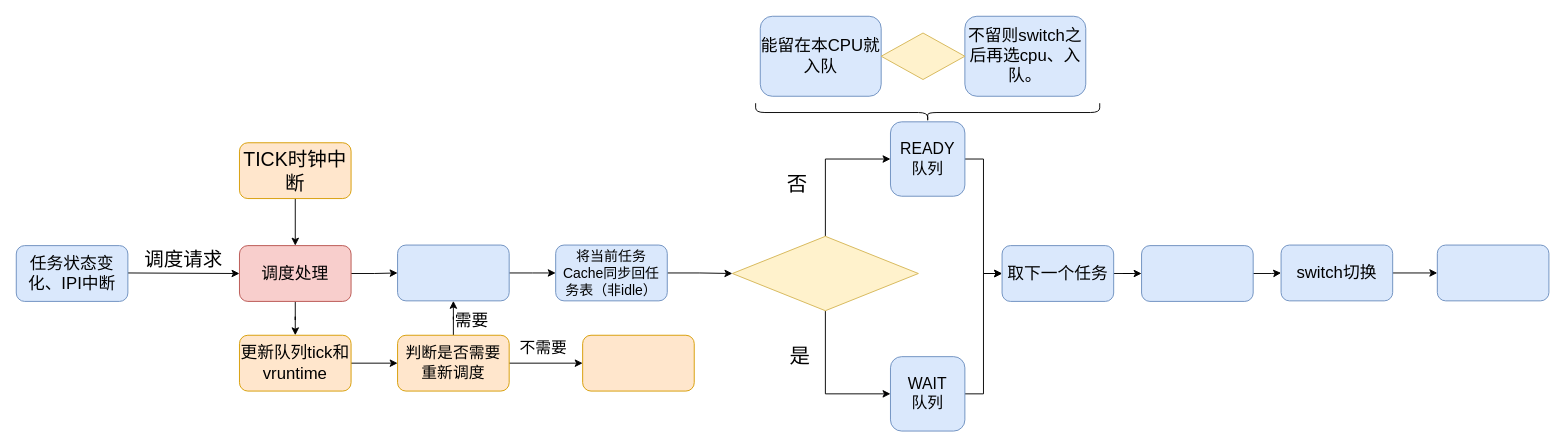
The diagram is 1565 pixels wide and 447 high, and some of its shapes have lost their labels. Each missing label, with the centre of its shape:
stay？: the point at 922,56
发送核间中断请求重调度: the point at 1492,272
取出当前任务: the point at 453,272
将任务同步到CPUcache中: the point at 1197,273
返回: the point at 638,362
阻塞任务？: the point at 824,273
